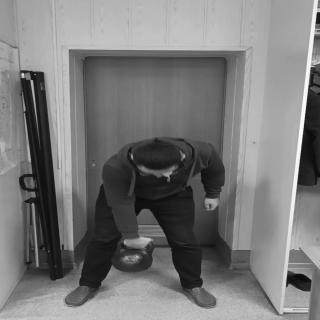kettlebell: (113, 240, 153, 273)
